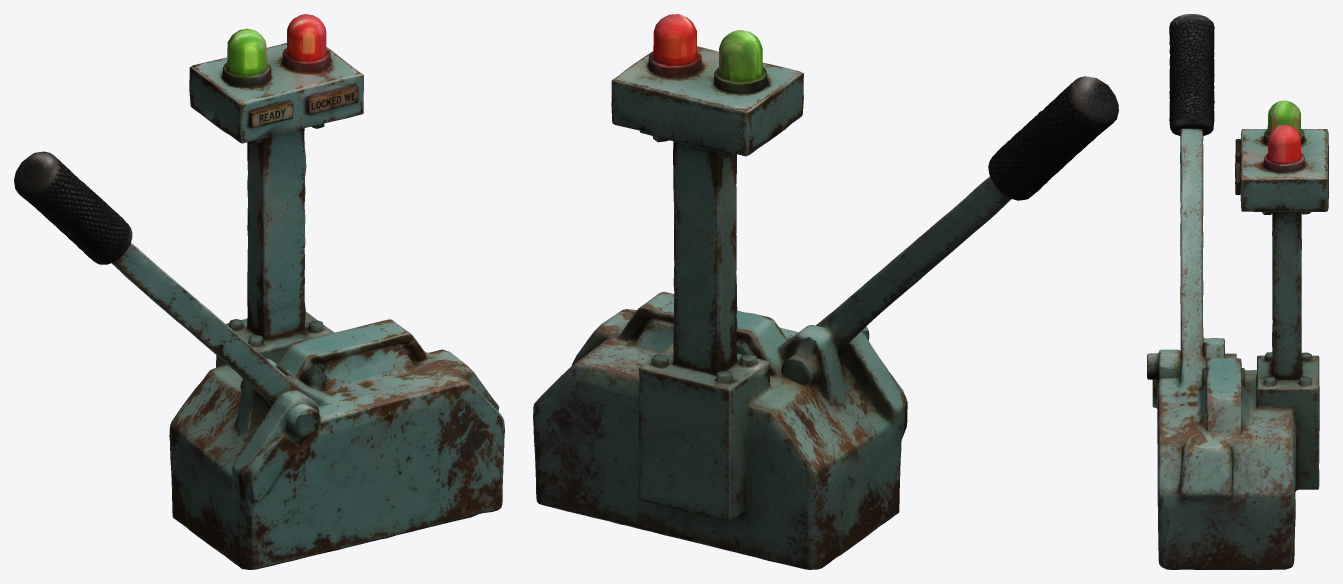
File: lever.glb
3 renders of one model, left to right at view 1: azimuth 30°, elevation 25°; view 2: azimuth 150°, elevation 25°; view 3: azimuth 270°, elevation 25°, orthographic. The views are drawn at different scales.
Parts seen in each view (by area): view 1: LeverBase, LeverHandle; view 2: LeverBase, LeverHandle; view 3: LeverBase, LeverHandle.
Part boxes in pixels (x1,y1,x2,y2): LeverBase: [169, 14, 504, 569]; LeverHandle: [14, 151, 318, 421]; LeverBase: [533, 14, 907, 569]; LeverHandle: [775, 76, 1118, 370]; LeverBase: [1147, 100, 1328, 569]; LeverHandle: [1147, 14, 1224, 377].
Bounding box in the file's own units: 2.05 × 1.94 × 0.8144.
Materials: 1 (1 with a texture image).
